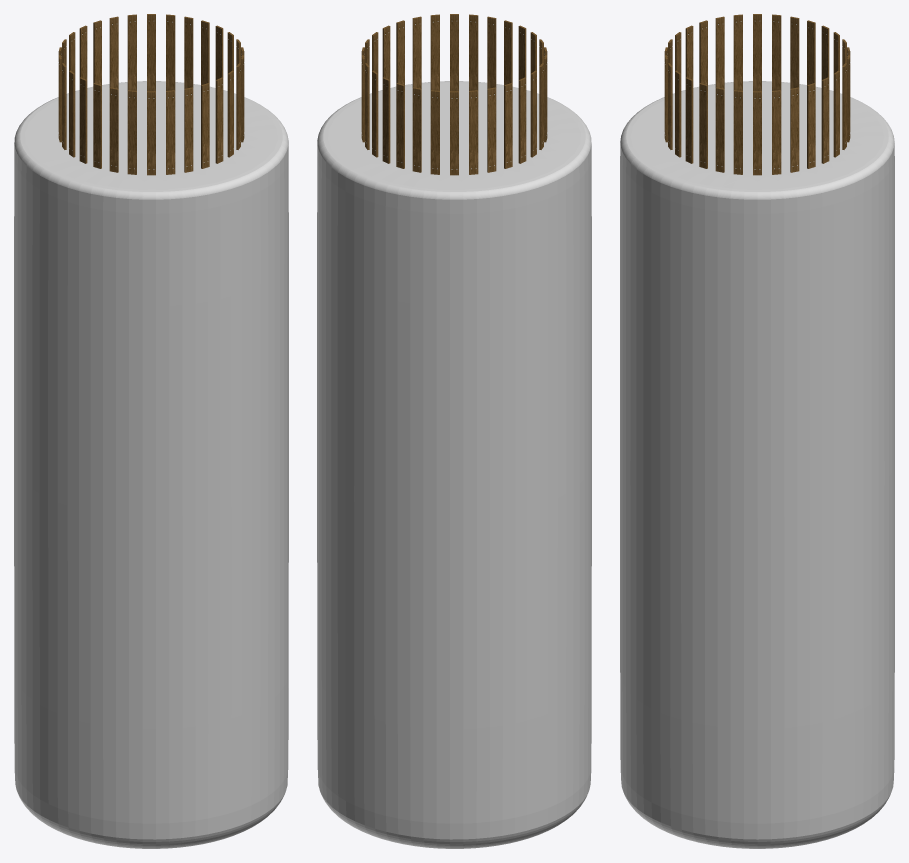
Rendered from arena.fbx.
The picture shows the model from 3 angles, left to right: view 1: azimuth 30°, elevation 25°; view 2: azimuth 150°, elevation 25°; view 3: azimuth 270°, elevation 25°; orthographic projection.
Visible parts, largest first — view 1: walec, fence.023, fence.029, fence.041, fence.047, fence.035, fence.119, fence.131, fence.017, fence.053, fence.011, fence.059 (+7 smaller); view 2: walec, fence.143, fence.149, fence.161, fence.167, fence.059, fence.071, fence.155, fence.137, fence.173, fence.131, fence.179 (+7 smaller); view 3: walec, fence.083, fence.089, fence.101, fence.107, fence.011, fence.095, fence.179, fence.077, fence.113, fence.071, fence.119 (+7 smaller).
Part boxes in pixels (<box>): walec: <box>14,81,288,848</box>; fence.023: <box>109,87,118,172</box>; fence.029: <box>127,90,136,174</box>; fence.041: <box>166,90,175,174</box>; fence.047: <box>184,87,193,172</box>; fence.035: <box>147,91,155,175</box>; fence.119: <box>166,14,175,90</box>; fence.131: <box>127,14,136,90</box>; fence.017: <box>93,83,101,168</box>; fence.053: <box>201,83,209,168</box>; fence.011: <box>79,77,87,163</box>; fence.059: <box>215,77,223,163</box>; walec: <box>317,81,591,848</box>; fence.143: <box>412,87,421,172</box>; fence.149: <box>430,90,439,174</box>; fence.161: <box>469,90,478,174</box>; fence.167: <box>487,87,496,172</box>; fence.059: <box>469,14,478,90</box>; fence.071: <box>430,14,439,90</box>; fence.155: <box>450,91,458,175</box>; fence.137: <box>396,83,404,168</box>; fence.173: <box>504,83,512,168</box>; fence.131: <box>382,77,390,163</box>; fence.179: <box>518,77,526,163</box>; walec: <box>620,81,894,848</box>; fence.083: <box>715,87,724,172</box>; fence.089: <box>733,90,742,174</box>; fence.101: <box>772,90,781,174</box>; fence.107: <box>790,87,799,172</box>; fence.011: <box>733,14,742,90</box>; fence.095: <box>753,91,761,175</box>; fence.179: <box>772,14,781,90</box>; fence.077: <box>699,83,707,168</box>; fence.113: <box>807,83,815,168</box>; fence.071: <box>685,77,693,163</box>; fence.119: <box>821,77,829,163</box>.
Size of the model in its own units: 600 by 1798 by 600.
